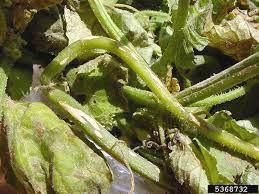Bok-Choy-Diseased: (5, 97, 89, 191)
